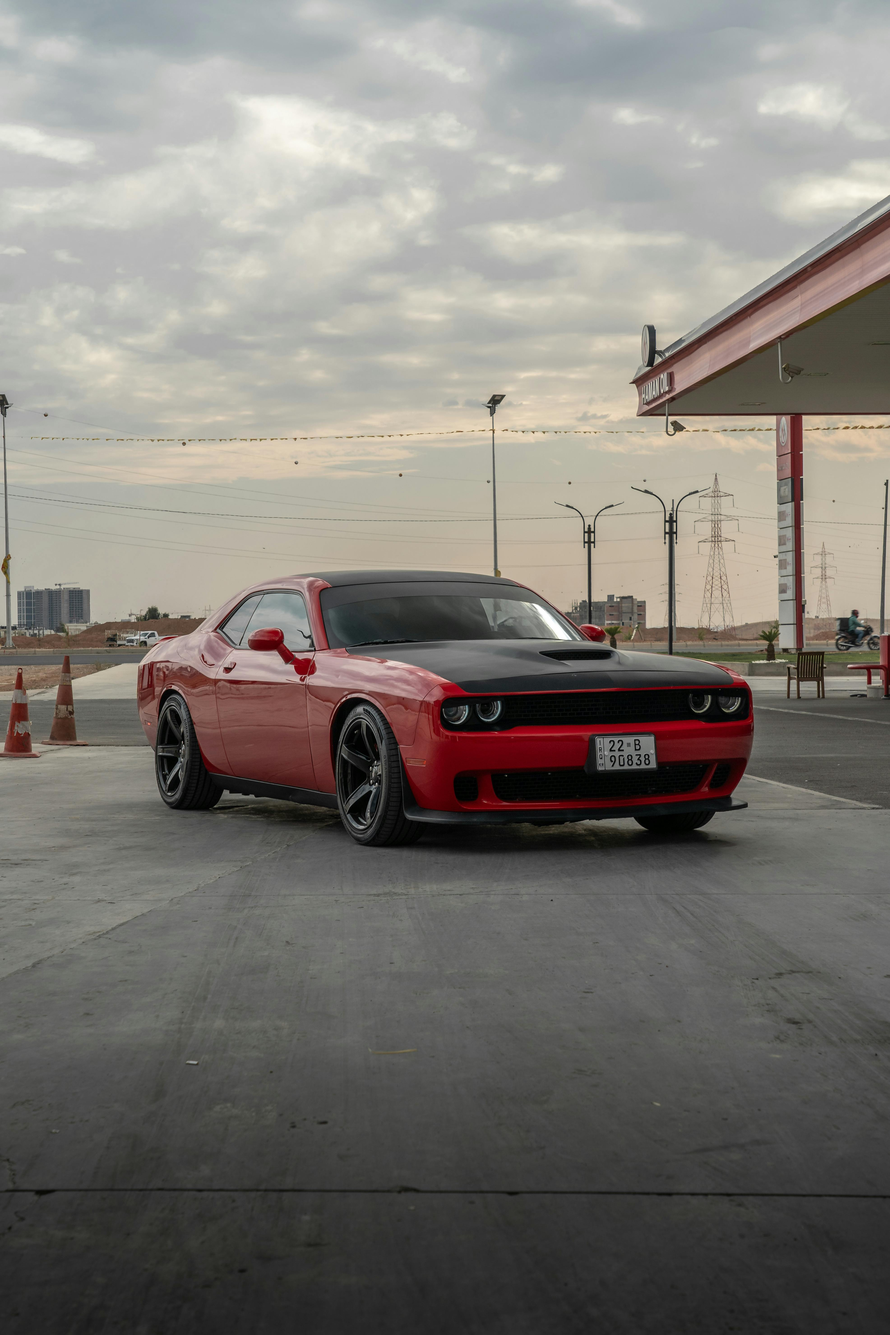other: (133, 566, 753, 854)
